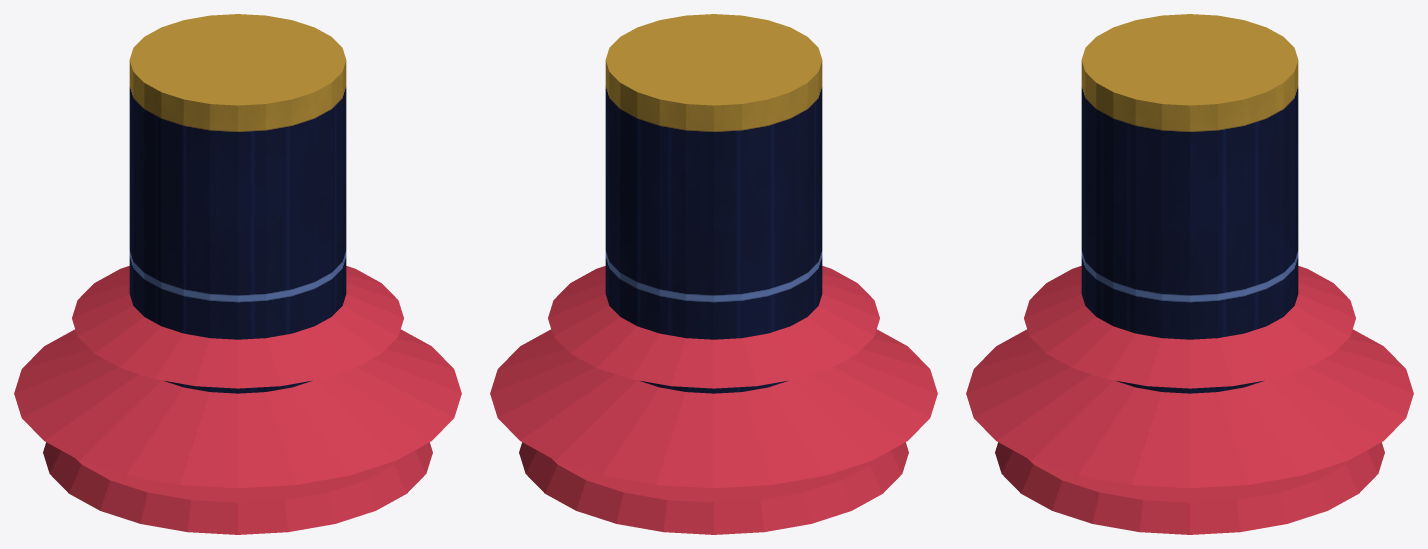
Rendered from tower.glb.
3 views of the same model, side by side, from view 1: azimuth 30°, elevation 25°; view 2: azimuth 150°, elevation 25°; view 3: azimuth 270°, elevation 25° (orthographic).
Visible parts, largest first — view 1: Cap, Seg0, Seg1, Seg2, Seg3, Seg4; view 2: Cap, Seg0, Seg1, Seg2, Seg3, Seg4; view 3: Cap, Seg0, Seg1, Seg2, Seg3, Seg4.
Part boxes in pixels (left/top/right/bottom): Cap: left=14, top=266, right=461, bottom=534; Seg0: left=129, top=14, right=346, bottom=393; Seg1: left=143, top=19, right=330, bottom=100; Seg2: left=155, top=25, right=320, bottom=94; Seg3: left=169, top=30, right=307, bottom=89; Seg4: left=182, top=36, right=295, bottom=83; Cap: left=490, top=266, right=937, bottom=534; Seg0: left=605, top=14, right=822, bottom=393; Seg1: left=619, top=19, right=808, bottom=100; Seg2: left=631, top=25, right=796, bottom=94; Seg3: left=644, top=30, right=782, bottom=89; Seg4: left=656, top=36, right=769, bottom=83; Cap: left=966, top=266, right=1413, bottom=534; Seg0: left=1081, top=14, right=1298, bottom=393; Seg1: left=1095, top=20, right=1284, bottom=99; Seg2: left=1108, top=24, right=1271, bottom=94; Seg3: left=1120, top=31, right=1259, bottom=88; Seg4: left=1134, top=36, right=1246, bottom=83.
Size of the model in its own units: 12.4 by 12 by 12.4.
Materials: 3 (3 with a texture image).
